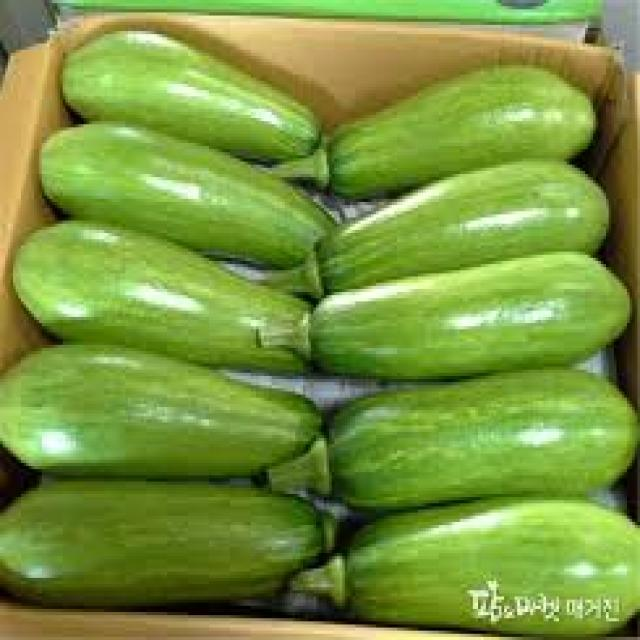zucchini: (266, 370, 640, 511), (260, 252, 632, 381), (262, 162, 611, 296), (266, 66, 598, 200)
